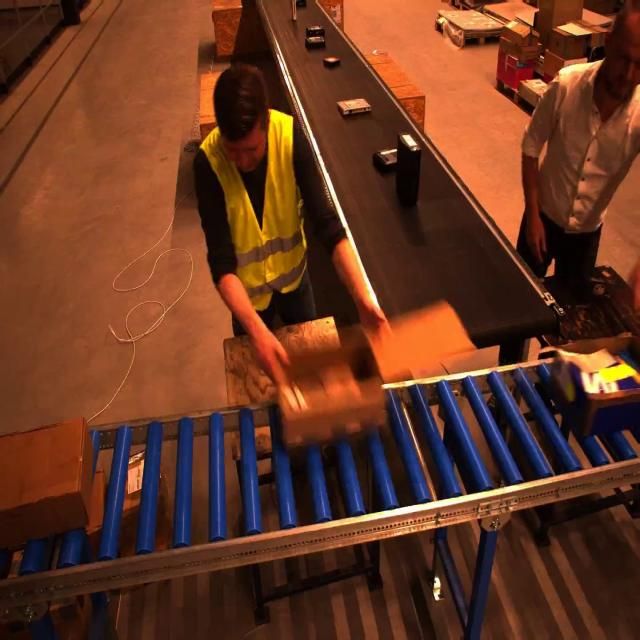box: (267, 332, 397, 440), (0, 420, 99, 544), (558, 342, 640, 423)
product: (398, 128, 425, 208), (374, 146, 404, 173), (340, 99, 374, 116), (304, 23, 326, 40), (304, 37, 327, 49), (322, 55, 341, 68), (288, 0, 297, 21), (291, 0, 309, 9)
